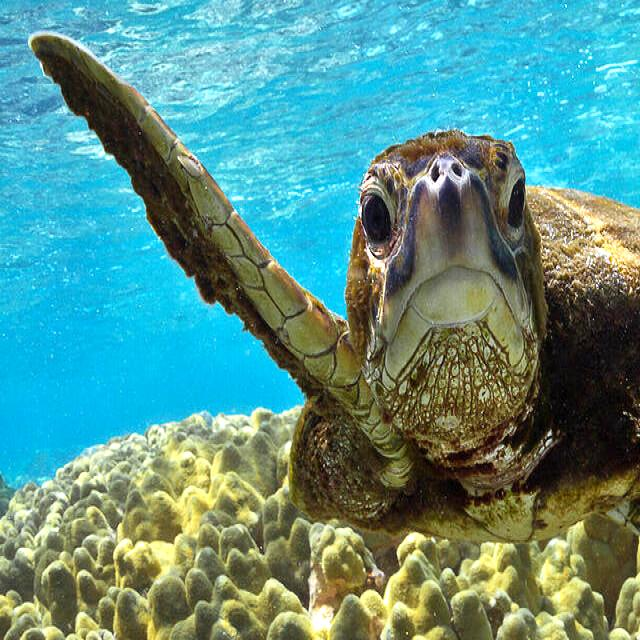Sea turtle: (10, 10, 640, 547)
